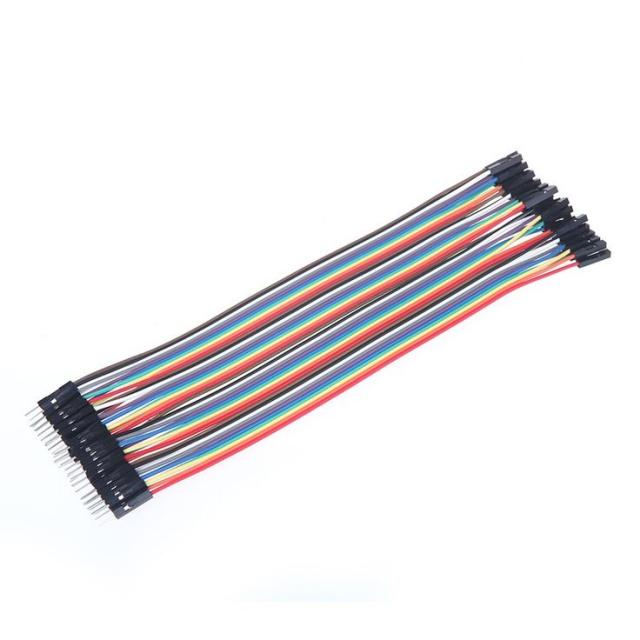Jumper Wires: (10, 120, 634, 549)
